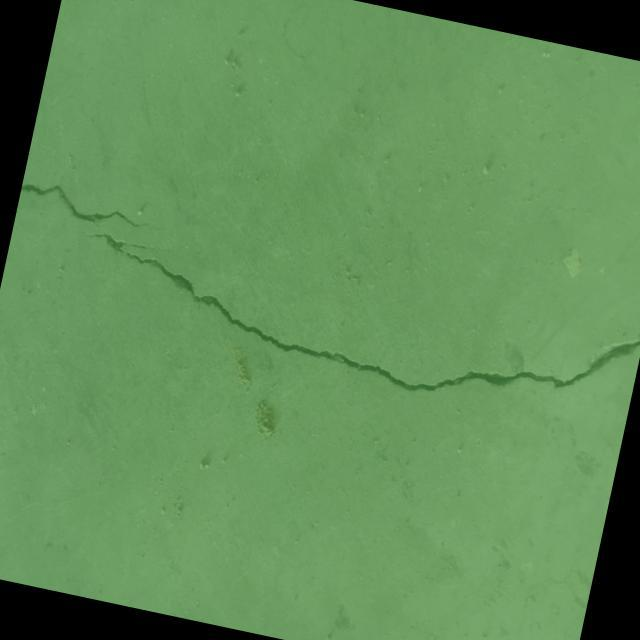crack: (66, 207, 640, 438), (17, 177, 150, 234)
